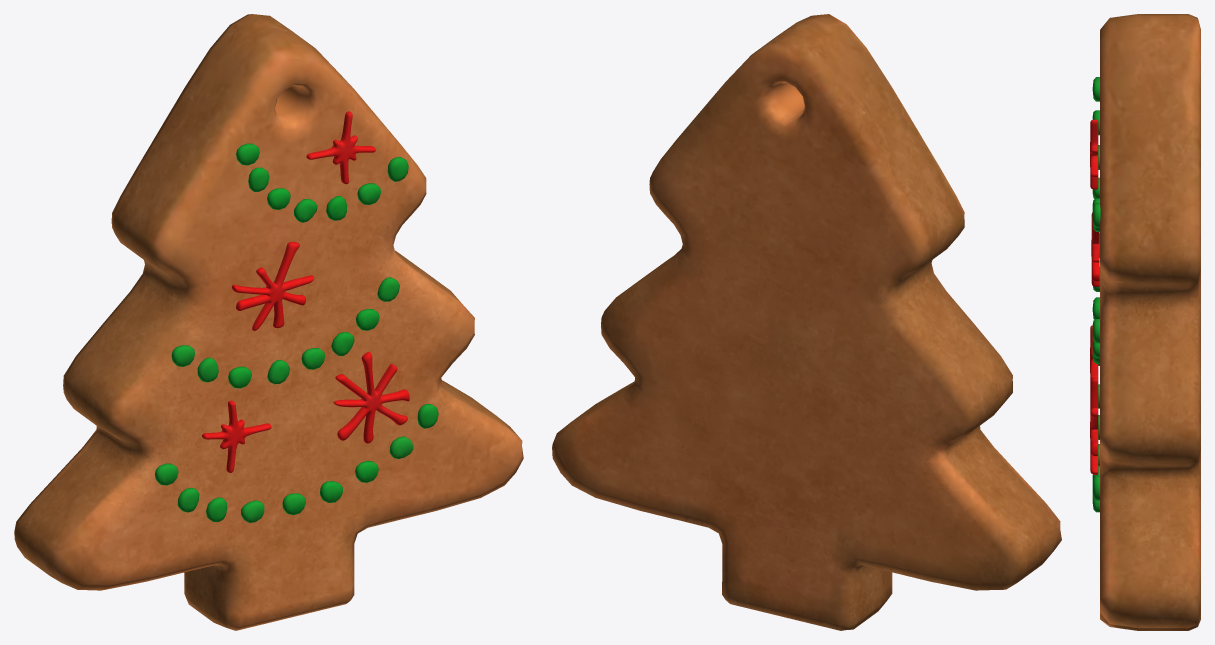
Rendered from ginger-tree-2.glb.
3 views of the same model, side by side, from view 1: azimuth 30°, elevation 25°; view 2: azimuth 150°, elevation 25°; view 3: azimuth 270°, elevation 25° (orthographic).
Parts seen in each view (by area): view 1: Christmas tree_2; view 2: Christmas tree_2; view 3: Christmas tree_2.
Part boxes in pixels (<box>): Christmas tree_2: <box>14,14,523,630</box>; Christmas tree_2: <box>552,14,1061,630</box>; Christmas tree_2: <box>1090,14,1200,630</box>.
Size of the model in its own units: 0.0661 by 0.0769 by 0.0132.
Materials: 1 (1 with a texture image).
